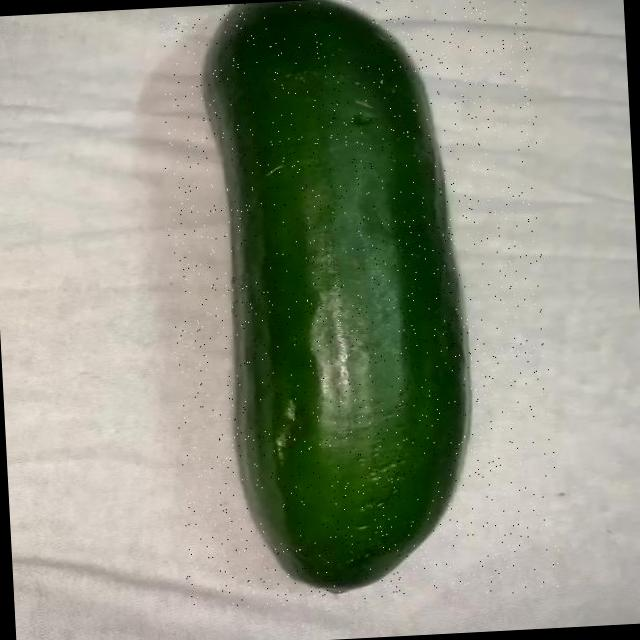Cucumber: (200, 0, 479, 601)
